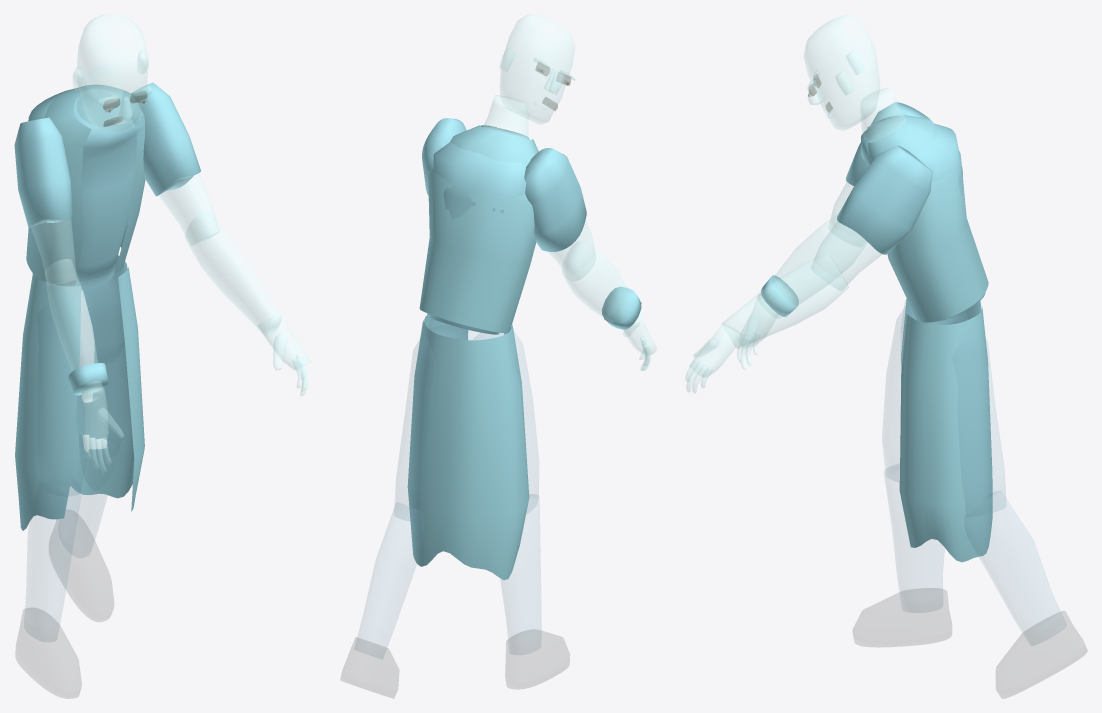
File: enemy-lab-ghost.glb
3 views of the same model, side by side, from view 1: azimuth 30°, elevation 25°; view 2: azimuth 150°, elevation 25°; view 3: azimuth 270°, elevation 25° (orthographic). The views are drawn at different scales.
Parts seen in each view (by area): view 1: Ghost torn gown, Chest, Ghost examination gown, Anatomical head, Trouser thigh_L, Trouser shin_L, Short sleeve_L, Forearm anatomy_R, Short sleeve_R, Forearm anatomy_L, Shoe_L, Shoe_R (+9 smaller); view 2: Ghost torn gown, Ghost examination gown, Anatomical head, Trouser shin_R, Trouser thigh_R, Short sleeve_L, Chest, Trouser shin_L, Forearm anatomy_L, Shoe_L, Shoe_R, Trouser thigh_L (+6 smaller); view 3: Ghost torn gown, Ghost examination gown, Trouser shin_R, Trouser thigh_R, Anatomical head, Short sleeve_R, Forearm anatomy_R, Shoe_L, Shoe_R, Forearm anatomy_L, Trouser shin_L, Upper arm_R (+7 smaller).
Part boxes in pixels (left/top/right/bottom): Ghost torn gown: left=15, top=255, right=144, bottom=530; Chest: left=28, top=88, right=142, bottom=290; Ghost examination gown: left=26, top=84, right=145, bottom=286; Anatomical head: left=77, top=14, right=148, bottom=131; Trouser thigh_L: left=37, top=304, right=93, bottom=495; Trouser shin_L: left=25, top=482, right=81, bottom=630; Short sleeve_L: left=14, top=117, right=72, bottom=226; Forearm anatomy_R: left=185, top=212, right=281, bottom=336; Short sleeve_R: left=131, top=82, right=200, bottom=196; Forearm anatomy_L: left=45, top=259, right=103, bottom=401; Shoe_L: left=16, top=609, right=81, bottom=698; Shoe_R: left=66, top=540, right=113, bottom=621; Ghost torn gown: left=407, top=315, right=529, bottom=580; Ghost examination gown: left=419, top=125, right=538, bottom=332; Anatomical head: left=500, top=14, right=574, bottom=124; Trouser shin_R: left=358, top=508, right=423, bottom=649; Trouser thigh_R: left=394, top=334, right=435, bottom=515; Short sleeve_L: left=524, top=148, right=586, bottom=251; Chest: left=427, top=126, right=529, bottom=334; Trouser shin_L: left=500, top=496, right=540, bottom=643; Forearm anatomy_L: left=562, top=241, right=630, bottom=330; Shoe_L: left=505, top=631, right=569, bottom=688; Shoe_R: left=341, top=637, right=398, bottom=697; Trouser thigh_L: left=514, top=331, right=538, bottom=507; Ghost torn gown: left=899, top=299, right=992, bottom=562; Ghost examination gown: left=866, top=115, right=988, bottom=322; Trouser shin_R: left=964, top=499, right=1061, bottom=635; Trouser thigh_R: left=951, top=326, right=1005, bottom=515; Anatomical head: left=804, top=14, right=879, bottom=130; Short sleeve_R: left=837, top=145, right=932, bottom=254; Forearm anatomy_R: left=722, top=253, right=848, bottom=349; Shoe_L: left=853, top=589, right=951, bottom=646; Shoe_R: left=996, top=611, right=1086, bottom=698; Forearm anatomy_L: left=758, top=214, right=867, bottom=318; Trouser shin_L: left=884, top=470, right=944, bottom=604; Upper arm_R: left=811, top=221, right=882, bottom=290.
Bounding box in the file's own units: 0.5392 × 1.77 × 1.
